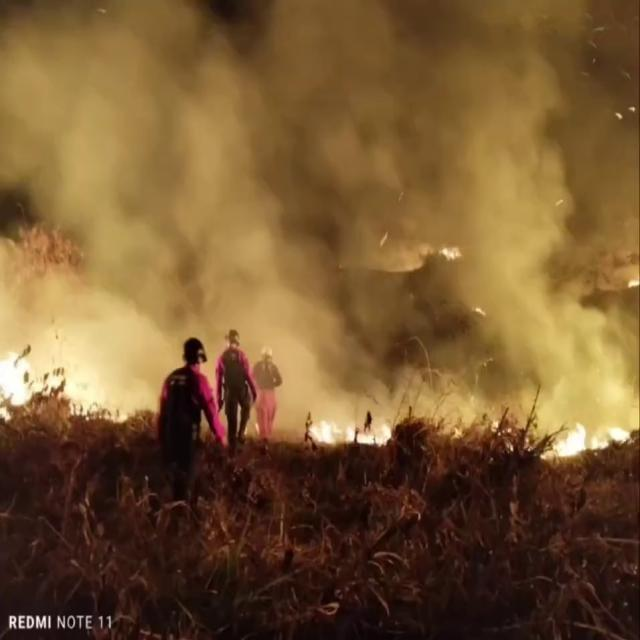Fire: (546, 402, 636, 466)
Smoke: (0, 1, 638, 446)
